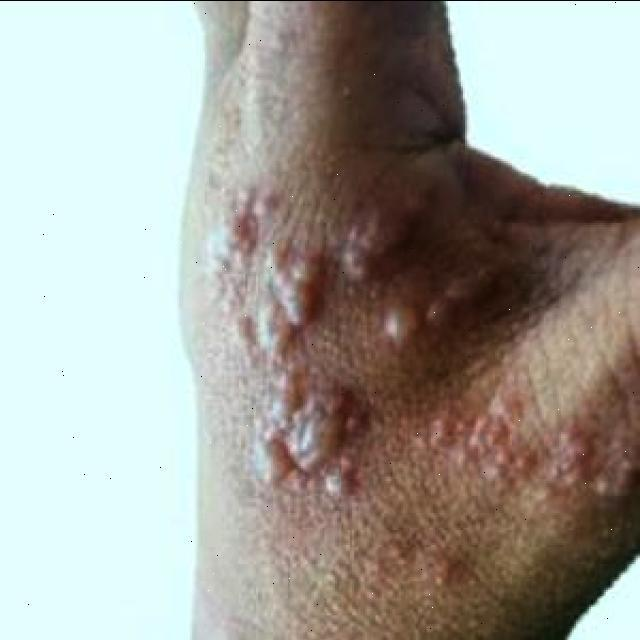Shingles: (212, 183, 368, 501), (416, 394, 640, 517), (375, 266, 495, 348), (343, 181, 419, 277)
